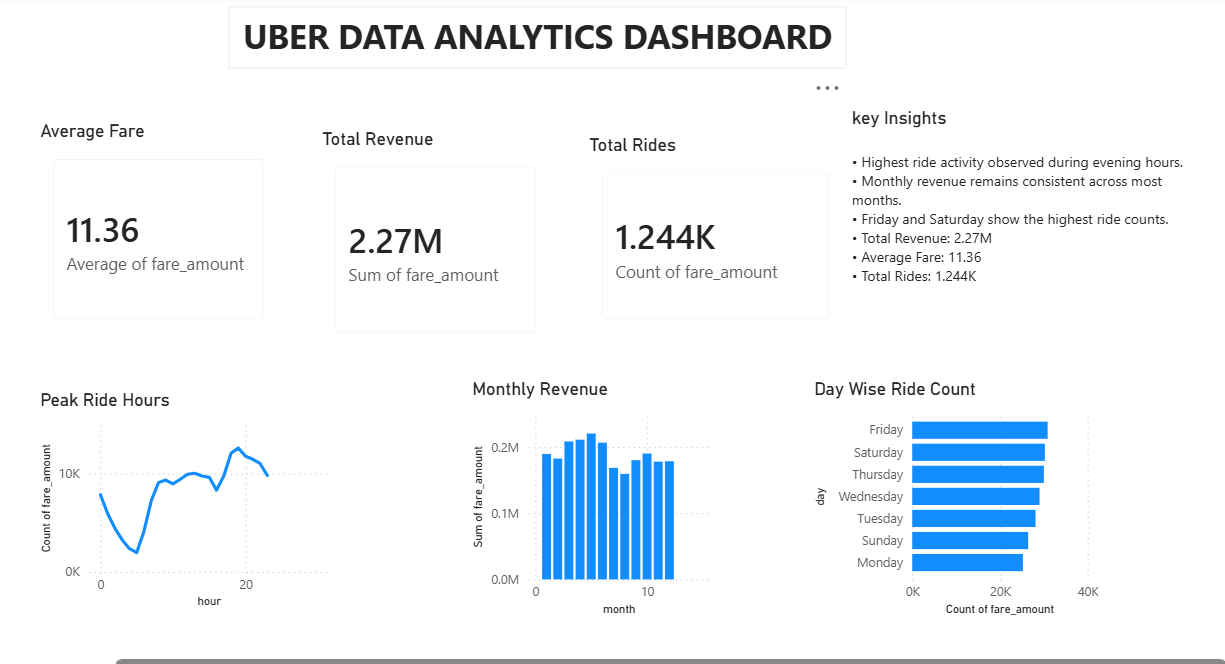

The dashboard page shown, as its layout file describes it:
{"tool":"powerbi","page":{"name":"Page 1","canvas":[1280,720],"ordinal":0},"visuals":[{"type":"cardVisual","title":"Total Revenue","fields":{"Data":["Sum(cleaned_uber_data.fare_amount)"]},"box":[414.3,137.1,225.7,212.9],"z":0},{"type":"cardVisual","title":"Average Fare","fields":{"Data":["Avg(cleaned_uber_data.fare_amount)"]},"box":[145.7,130,234.3,207.1],"z":1000},{"type":"cardVisual","title":"Total Rides","fields":{"Data":["Count(cleaned_uber_data.fare_amount)"]},"box":[668.6,142.9,250,194.3],"z":2000},{"type":"lineChart","title":"Peak Ride Hours","fields":{"Y":["CountNonNull(cleaned_uber_data.fare_amount)"],"Category":["cleaned_uber_data.hour"]},"box":[145.7,385.7,284.3,212.9],"z":3000},{"type":"columnChart","title":"Monthly Revenue","fields":{"Y":["Sum(cleaned_uber_data.fare_amount)"],"Category":["cleaned_uber_data.month"]},"box":[527.5,368.5,237.5,230.1],"z":4000},{"type":"clusteredBarChart","title":"Day Wise Ride Count","fields":{"Category":["cleaned_uber_data.day"],"Y":["CountNonNull(cleaned_uber_data.fare_amount)"]},"box":[882.9,375.7,280,230],"z":5000},{"type":"textbox","box":[330,21.4,588.6,58.6],"z":6000},{"type":"textbox","title":"key Insights","box":[918.6,117.1,345.7,214.3],"z":7000}]}

Visuals, with their boxes on the page's 1280x720 design canvas (x1, y1, x2, y2). These are canvas units, not pixel positions in the 1225x664 screenshot, which may show the page scaled, cropped or inside an application window:
"Total Revenue" cardVisual: (x1=414, y1=137, x2=640, y2=350)
"Average Fare" cardVisual: (x1=146, y1=130, x2=380, y2=337)
"Total Rides" cardVisual: (x1=669, y1=143, x2=919, y2=337)
"Peak Ride Hours" lineChart: (x1=146, y1=386, x2=430, y2=599)
"Monthly Revenue" columnChart: (x1=528, y1=368, x2=765, y2=599)
"Day Wise Ride Count" clusteredBarChart: (x1=883, y1=376, x2=1163, y2=606)
textbox: (x1=330, y1=21, x2=919, y2=80)
"key Insights" textbox: (x1=919, y1=117, x2=1264, y2=331)
